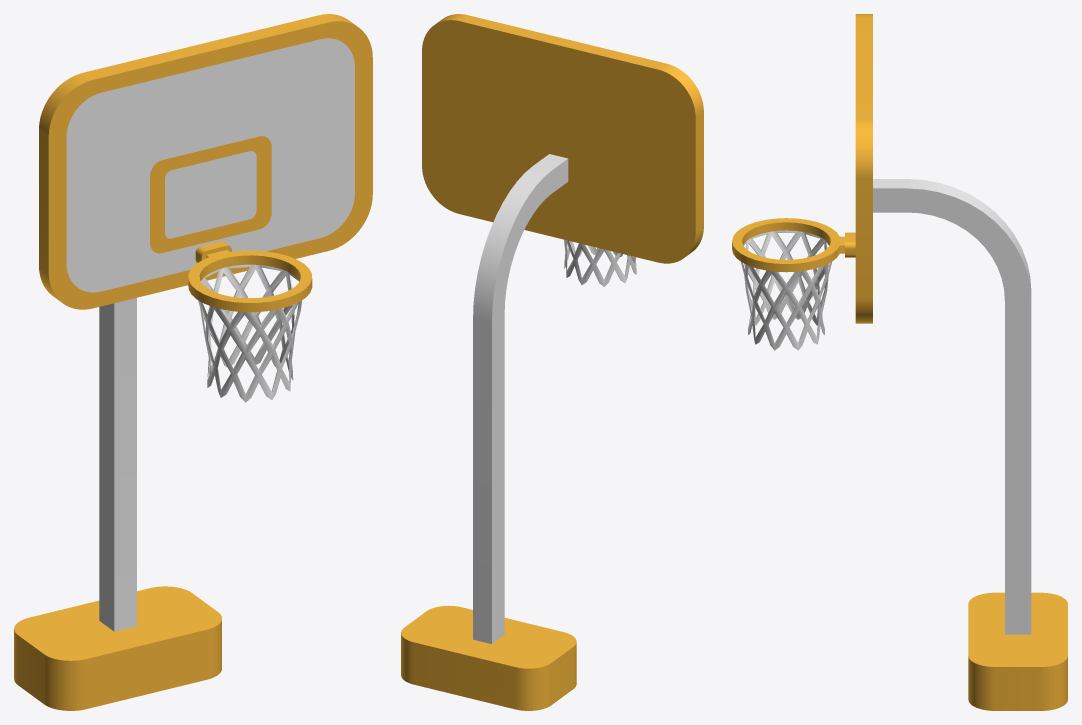
The model's file is Baketball Hoop Yellow.fbx.
The picture shows the model from 3 angles, left to right: view 1: azimuth 30°, elevation 25°; view 2: azimuth 150°, elevation 25°; view 3: azimuth 270°, elevation 25°; orthographic projection. The views are drawn at different scales.
Parts seen in each view (by area): view 1: Basketball Hoop Stand Yellow, Basketball Lattice Yellow, Basketball Hoop Yellow; view 2: Basketball Hoop Stand Yellow, Basketball Lattice Yellow; view 3: Basketball Hoop Stand Yellow, Basketball Lattice Yellow, Basketball Hoop Yellow.
Boxes of the visible parts, bbox=[...] form: Basketball Hoop Stand Yellow: bbox=[14, 14, 372, 710]; Basketball Lattice Yellow: bbox=[198, 264, 302, 402]; Basketball Hoop Yellow: bbox=[188, 241, 312, 312]; Basketball Hoop Stand Yellow: bbox=[401, 14, 703, 710]; Basketball Lattice Yellow: bbox=[564, 239, 636, 287]; Basketball Hoop Stand Yellow: bbox=[855, 14, 1067, 710]; Basketball Lattice Yellow: bbox=[741, 230, 831, 350]; Basketball Hoop Yellow: bbox=[732, 218, 855, 272].
Bounding box in the file's own units: 292 × 595 × 299.
